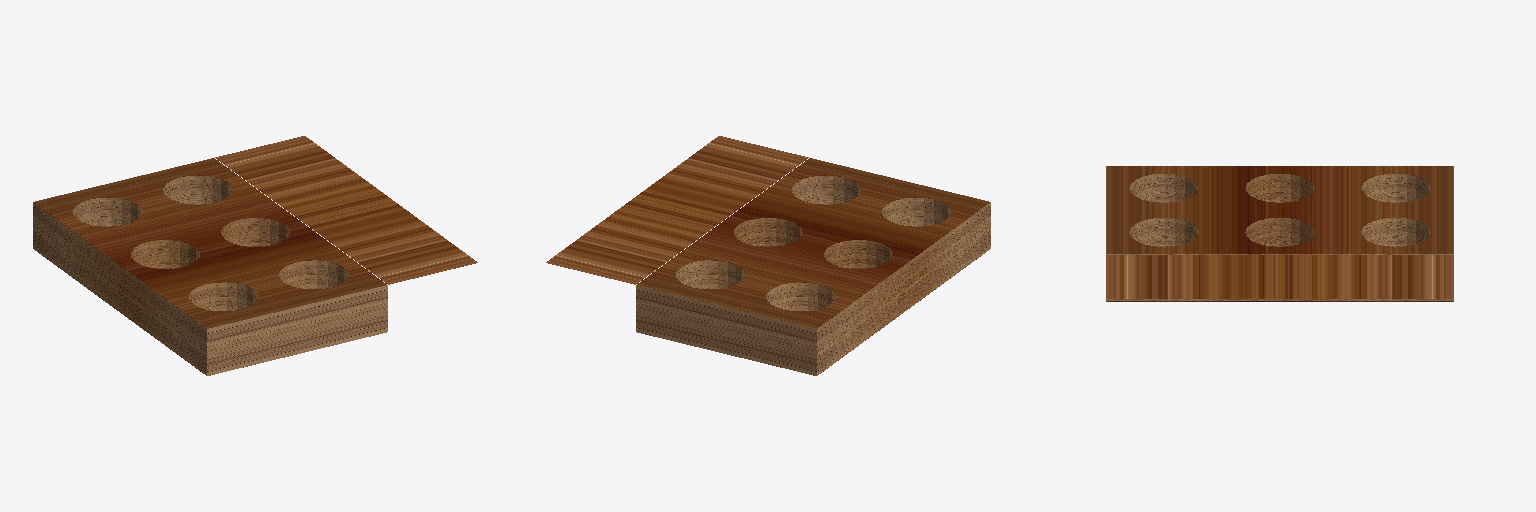
The picture shows the model from 3 angles: view 1: azimuth 30°, elevation 25°; view 2: azimuth 150°, elevation 25°; view 3: azimuth 270°, elevation 25°; orthographic projection.
Parts seen in each view (by area): view 1: polySurface3; view 2: polySurface3; view 3: polySurface3.
Part boxes in pixels (x1,y1,x2,y2): polySurface3: (33,136,477,375); polySurface3: (546,136,990,375); polySurface3: (1106,166,1453,301).
Size of the model in its own units: 9.02 by 1.5 by 10.
Materials: 2 (1 with a texture image).